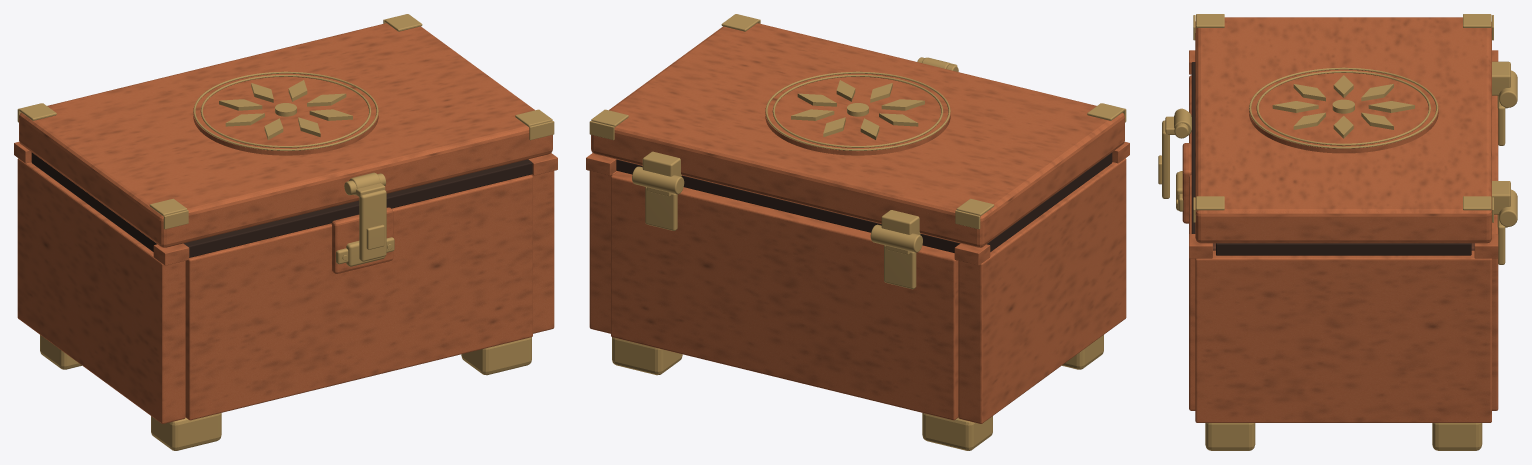
File: azerbaijan.glb
The picture shows the model from 3 angles, left to right: view 1: azimuth 30°, elevation 25°; view 2: azimuth 150°, elevation 25°; view 3: azimuth 270°, elevation 25°; orthographic projection. The views are drawn at different scales.
Parts seen in each view (by area): view 1: Lid / polished slab, Copper / front, Copper / side, Ornament / medallion, Umber seam / long, Copper / side.001, Brass foot, Brass foot.002, Copper / clasp seat, Latch / lifting hasp, Umber seam / side, Ornament / ring.001 (+3 smaller); view 2: Lid / polished slab, Copper / rear, Copper / side, Ornament / medallion, Copper / side.001, Umber seam / long.001, Brass foot.001, Brass foot.003, Umber seam / side, Hinge / fixed mount, Hinge / fixed mount.001, Ornament / ring.001 (+8 smaller); view 3: Lid / polished slab, Copper / side.001, Ornament / medallion, Umber seam / side.001, Copper / rear, Brass foot.003, Brass foot.002, Copper / front, Ornament / ring.001, Ornament / ring, Umber seam / long, Copper / clasp seat (+13 smaller).
Boxes of the visible parts, <box> form: Lid / polished slab: <box>19,23,552,247</box>; Copper / front: <box>185,175,532,420</box>; Copper / side: <box>17,158,185,423</box>; Ornament / medallion: <box>193,73,378,155</box>; Umber seam / long: <box>183,159,532,257</box>; Copper / side.001: <box>531,171,554,333</box>; Brass foot: <box>151,413,221,450</box>; Brass foot.002: <box>461,337,531,375</box>; Copper / clasp seat: <box>331,207,393,273</box>; Latch / lifting hasp: <box>359,190,386,261</box>; Umber seam / side: <box>31,152,156,251</box>; Ornament / ring.001: <box>193,71,378,150</box>; Lid / polished slab: <box>591,23,1124,247</box>; Copper / rear: <box>611,171,958,420</box>; Copper / side: <box>958,158,1126,423</box>; Ornament / medallion: <box>765,73,950,155</box>; Copper / side.001: <box>589,171,617,333</box>; Umber seam / long.001: <box>616,159,960,252</box>; Brass foot.001: <box>922,413,992,450</box>; Brass foot.003: <box>612,337,682,375</box>; Umber seam / side: <box>987,152,1112,251</box>; Hinge / fixed mount: <box>884,245,916,289</box>; Hinge / fixed mount.001: <box>645,187,677,230</box>; Ornament / ring.001: <box>765,71,950,150</box>; Lid / polished slab: <box>1195,17,1491,243</box>; Copper / side.001: <box>1195,250,1491,422</box>; Ornament / medallion: <box>1249,69,1438,153</box>; Umber seam / side.001: <box>1216,243,1471,255</box>; Copper / rear: <box>1492,95,1498,410</box>; Brass foot.003: <box>1432,423,1482,450</box>; Brass foot.002: <box>1205,423,1255,450</box>; Copper / front: <box>1189,75,1195,410</box>; Ornament / ring.001: <box>1249,67,1438,148</box>; Ornament / ring: <box>1256,71,1430,145</box>; Umber seam / long: <box>1191,62,1195,233</box>; Copper / clasp seat: <box>1182,143,1191,223</box>.
Size of the model in its own units: 3.72 by 2.29 by 2.88.
4 materials, 1 textured.
